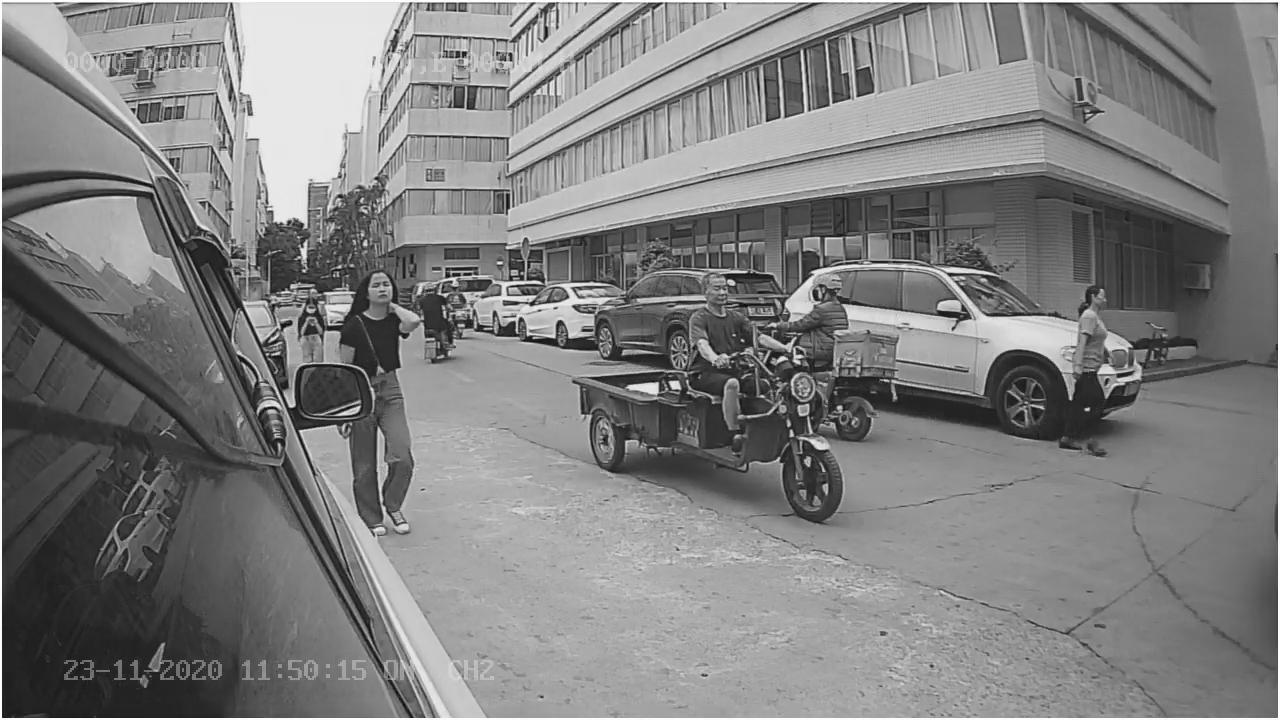person: (1053, 281, 1117, 458), (335, 267, 422, 360)
